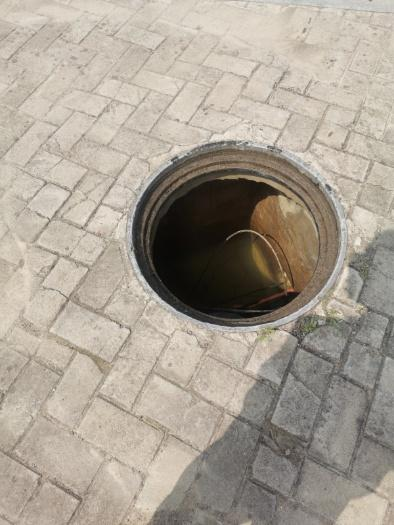wellcover: (107, 130, 358, 333)
